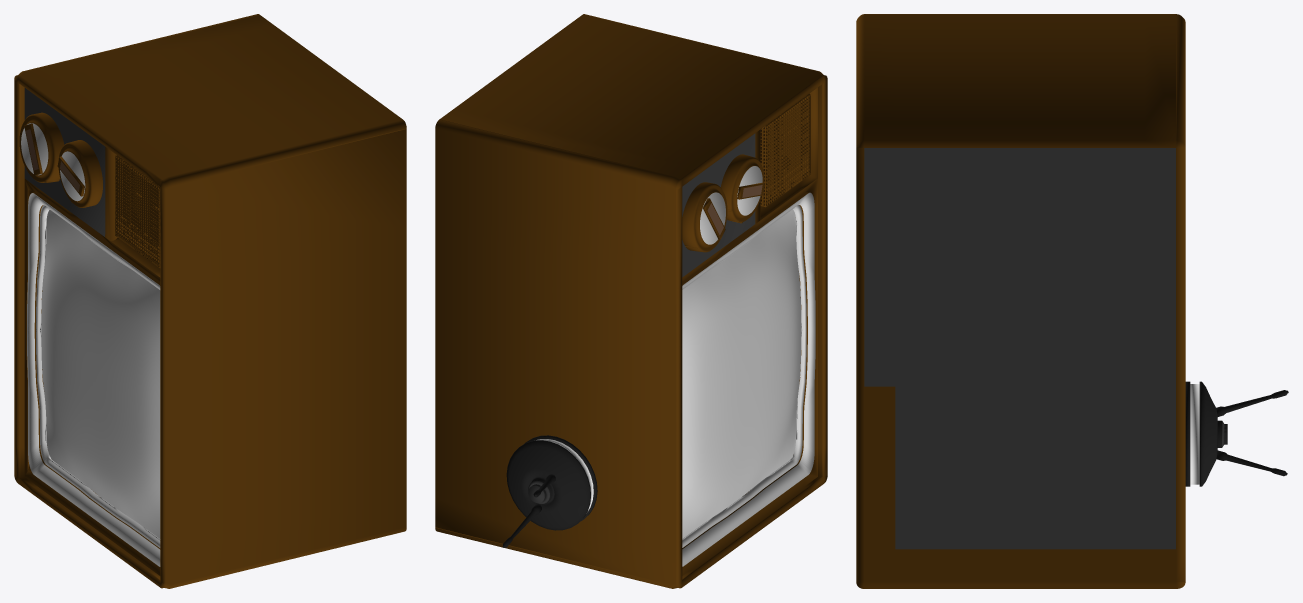
File: tv_vintage.fbx
3 renders of one model, left to right at view 1: azimuth 30°, elevation 25°; view 2: azimuth 150°, elevation 25°; view 3: azimuth 270°, elevation 25°, orthographic. The views are drawn at different scales.
Visible parts, largest first — view 1: imagetostl_mesh0, imagetostl_mesh2; view 2: imagetostl_mesh0, imagetostl_mesh2, imagetostl_mesh1; view 3: imagetostl_mesh0, imagetostl_mesh1.
Boxes of the visible parts, x1,y1,x2,y2 form: imagetostl_mesh0: (14,14,406,588); imagetostl_mesh2: (41,210,160,538); imagetostl_mesh0: (435,14,827,588); imagetostl_mesh2: (682,209,801,538); imagetostl_mesh1: (502,435,597,547); imagetostl_mesh0: (856,14,1185,588); imagetostl_mesh1: (1185,381,1288,486).
Size of the model in its own units: 198 by 307 by 268.
